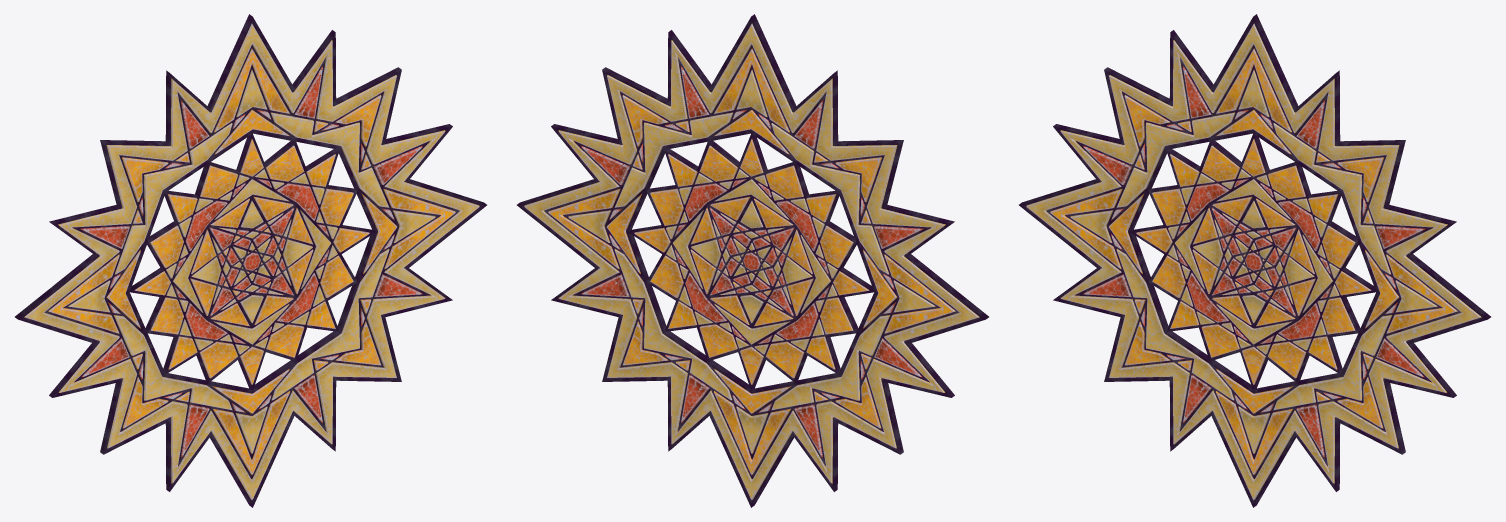
File: stained_glass_sun_mandala.glb
3 renders of one model, left to right at view 1: azimuth 30°, elevation 25°; view 2: azimuth 150°, elevation 25°; view 3: azimuth 330°, elevation 25°, orthographic.
Visible parts, largest first — view 1: SunEmblem_M_SunEmblem_0; view 2: SunEmblem_M_SunEmblem_0; view 3: SunEmblem_M_SunEmblem_0.
Boxes of the visible parts, x1,y1,x2,y2 form: SunEmblem_M_SunEmblem_0: (15,14,486,507); SunEmblem_M_SunEmblem_0: (517,14,988,507); SunEmblem_M_SunEmblem_0: (1019,14,1490,507).
Size of the model in its own units: 0.8992 by 0.8992 by 0.0119.
1 material, 1 textured.
